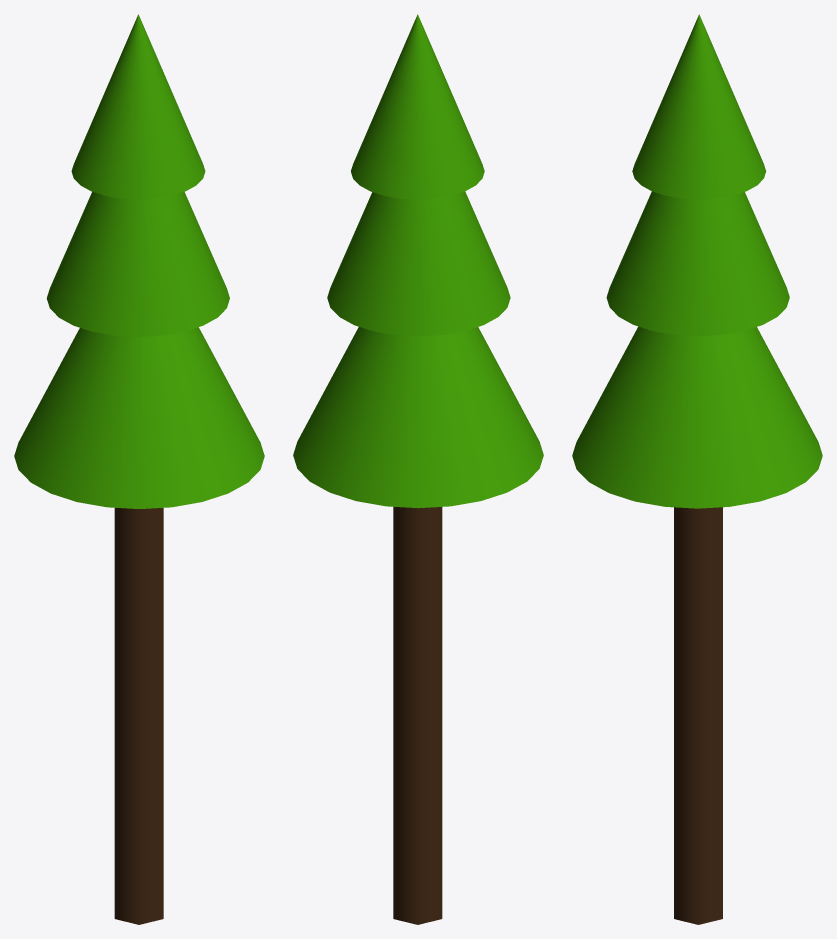
The model's file is Tree.FBX.
3 renders of one model, left to right at view 1: azimuth 30°, elevation 25°; view 2: azimuth 150°, elevation 25°; view 3: azimuth 270°, elevation 25°, orthographic.
Visible parts, largest first — view 1: Tree; view 2: Tree; view 3: Tree.
Boxes of the visible parts, bbox=[...] form: Tree: bbox=[14, 14, 264, 924]; Tree: bbox=[293, 14, 543, 924]; Tree: bbox=[572, 14, 822, 924].
Bounding box in the file's own units: 160 × 634 × 160.
